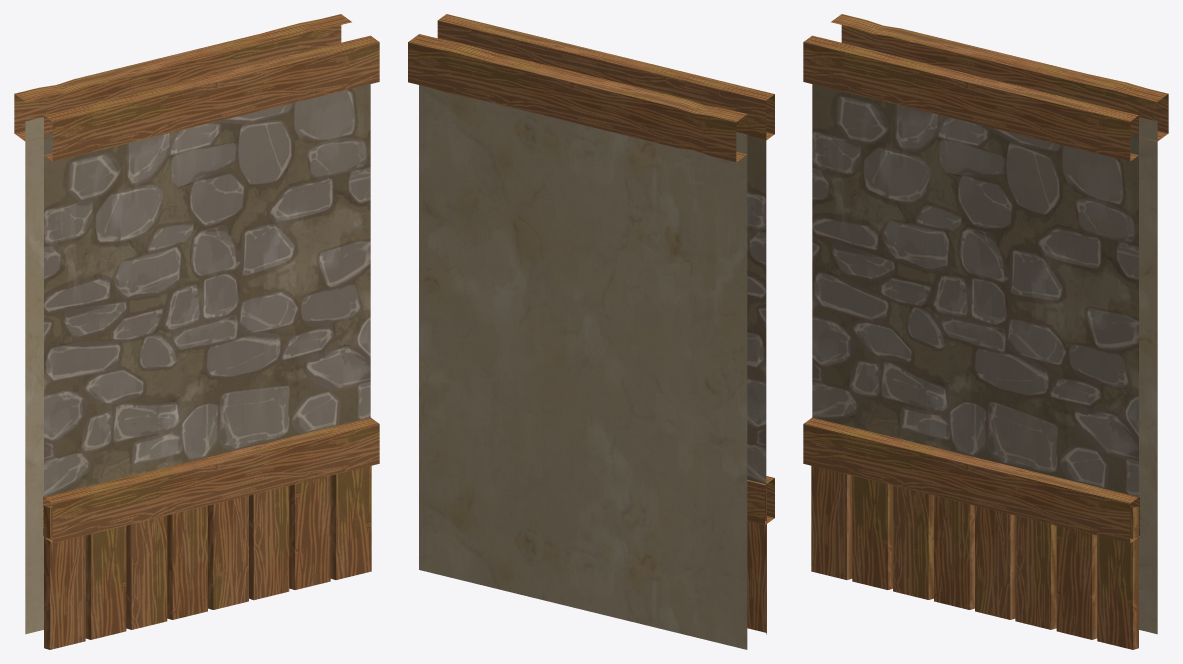
The model's file is Wall_WoodBrick_Straight.gltf.
3 renders of one model, left to right at view 1: azimuth 30°, elevation 25°; view 2: azimuth 150°, elevation 25°; view 3: azimuth 330°, elevation 25°, orthographic.
Parts seen in each view (by area): view 1: Wall_WoodBrick_Straight; view 2: Wall_WoodBrick_Straight; view 3: Wall_WoodBrick_Straight.
Part boxes in pixels (<box>): Wall_WoodBrick_Straight: <box>14,14,379,649</box>; Wall_WoodBrick_Straight: <box>408,14,774,649</box>; Wall_WoodBrick_Straight: <box>803,14,1168,649</box>.
Size of the model in its own units: 2 by 3.12 by 0.4065.
Materials: 4 (4 with a texture image).
